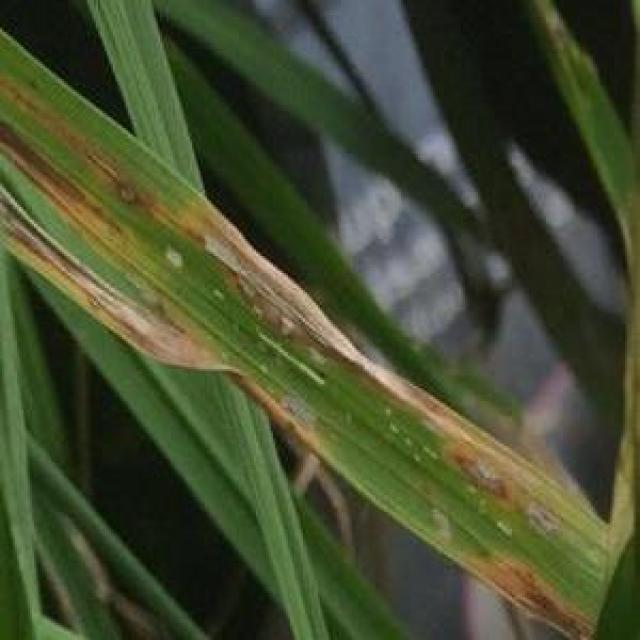Brown_Spot: (175, 181, 516, 506), (0, 83, 213, 369), (482, 544, 600, 640)
